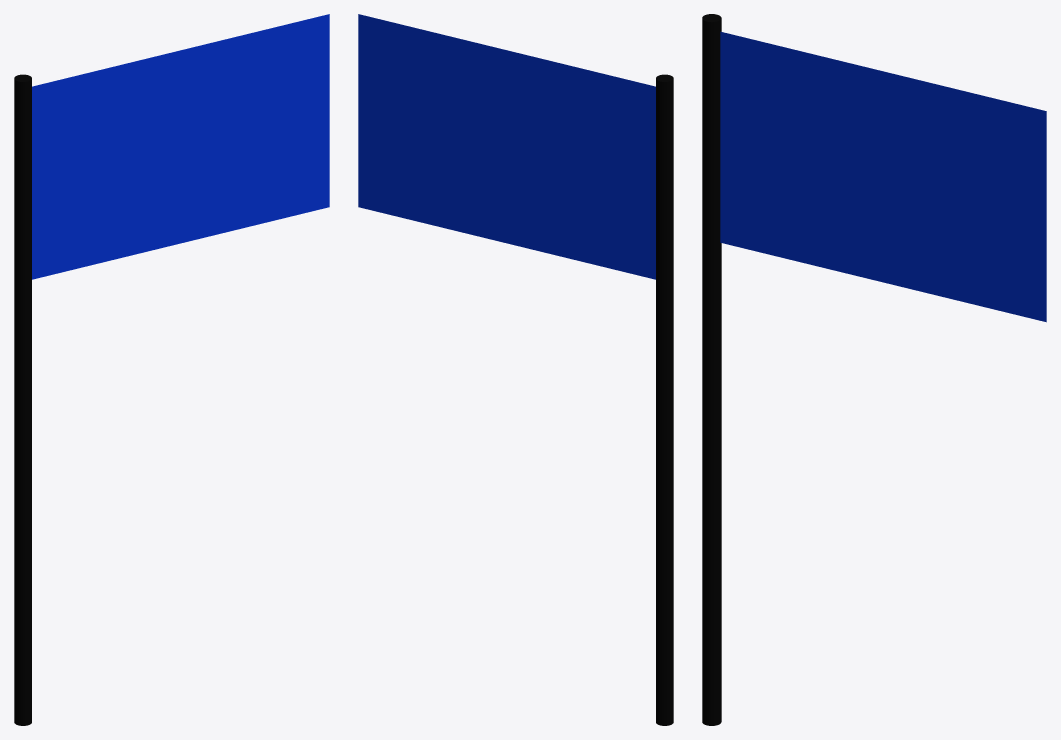
Rendered from Flag.fbx.
The picture shows the model from 3 angles, left to right: view 1: azimuth 30°, elevation 25°; view 2: azimuth 150°, elevation 25°; view 3: azimuth 330°, elevation 25°; orthographic projection. The views are drawn at different scales.
Visible parts, largest first — view 1: 平面, 円柱; view 2: 平面, 円柱; view 3: 平面, 円柱.
Part boxes in pixels (x1,y1,x2,y2): 平面: (32,14,329,279); 円柱: (14,74,31,725); 平面: (358,14,655,279); 円柱: (656,74,673,725); 平面: (720,31,1046,322); 円柱: (702,14,721,725).
Bounding box in the file's own units: 204 × 400 × 10.
